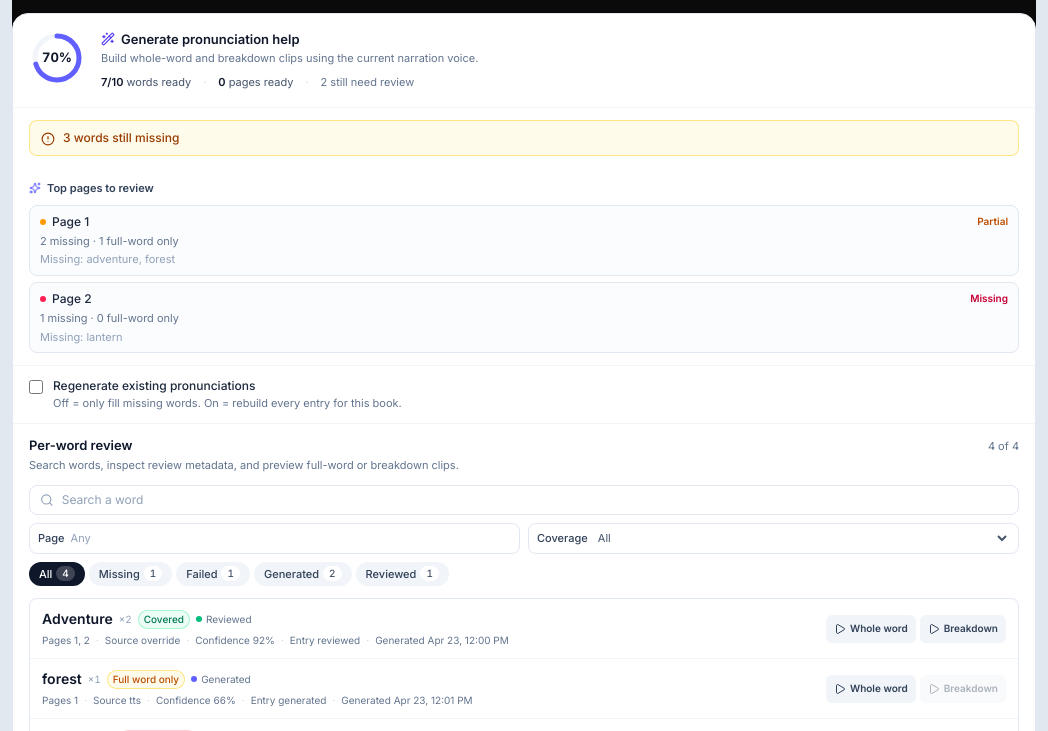
Scenario: PronunciationPanel › shows a preview error when audio playback fails
This screenshot has width=1048, height=731.
Click the button with aria-label "preview whole word adventure": (871, 628) [826,614,916,642]
(page scrolled)
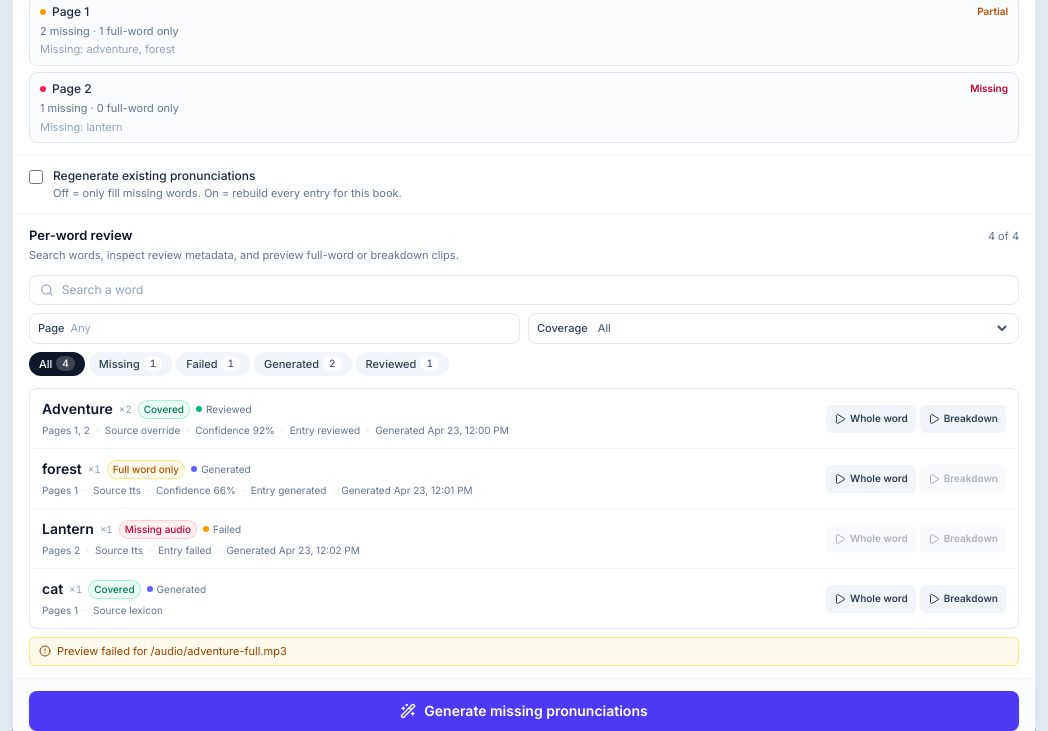
Now the text "Preview failed for /audio/adventure-full.mp3" is shown, box [57,643,287,660]
